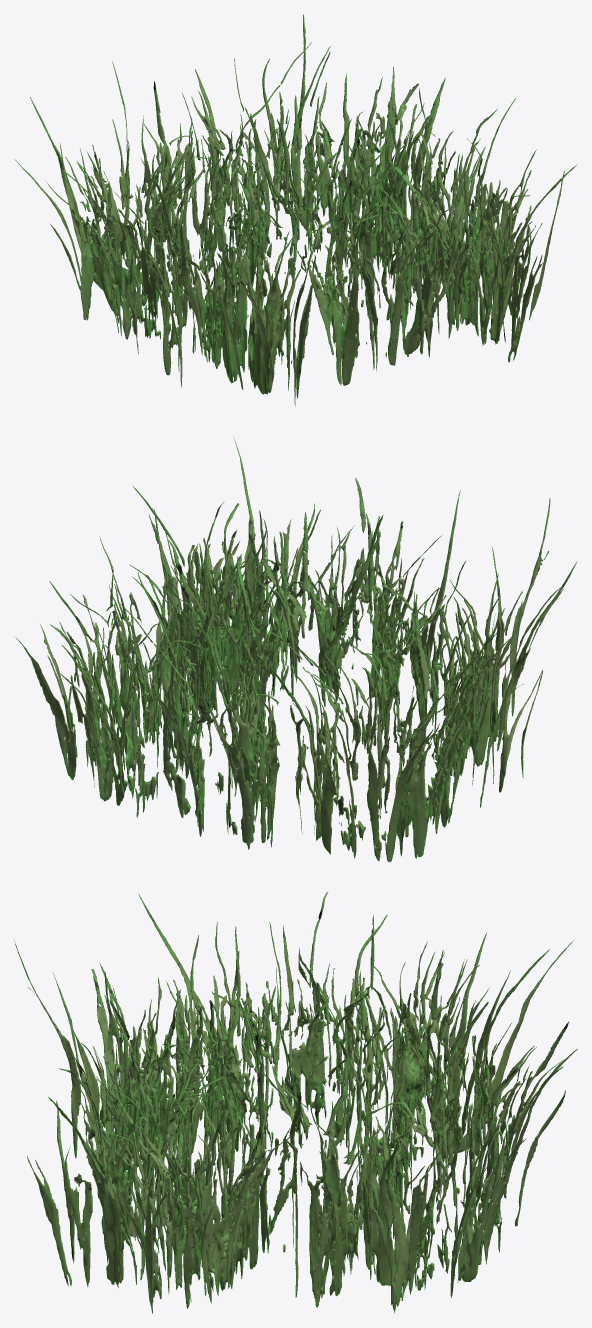
File: Waves_of_Green.glb
The picture shows the model from 3 angles, top to bottom: view 1: azimuth 30°, elevation 25°; view 2: azimuth 150°, elevation 25°; view 3: azimuth 270°, elevation 25°; orthographic projection. The views are drawn at different scales.
Size of the model in its own units: 1.9 by 1.04 by 1.96.
Materials: 1 (1 with a texture image).
